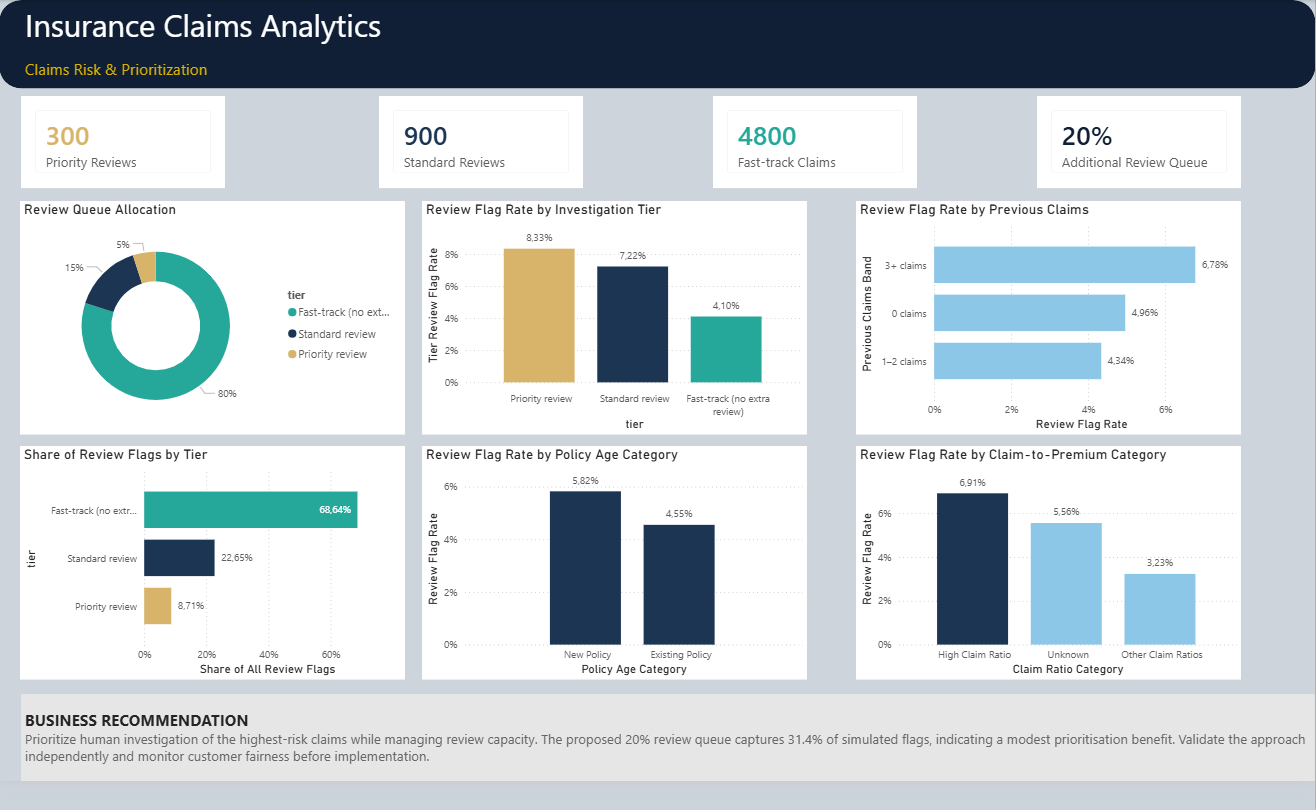

What the dashboard file says about the page in this screenshot:
{"tool":"powerbi","page":{"name":"Claims Risk & Prioritization.","canvas":[1600,950],"ordinal":1},"visuals":[{"type":"group","id":"g1","title":"Group 1","box":[26.7,843.8,1573.3,105.8],"z":0},{"type":"shape","box":[26.7,843.8,1573.3,105.8],"z":0,"group":"g1"},{"type":"group","id":"g2","title":"Group 2","box":[0,0,1600.5,107.6],"z":1000},{"type":"shape","box":[0,0,1600.5,107.6],"z":1000,"group":"g2"},{"type":"textbox","box":[26.9,0,531.2,62],"z":2000,"group":"g2"},{"type":"cardVisual","fields":{"Data":["review_tiers.Priority Reviews"]},"box":[26.7,116.7,248,111.9],"z":2000},{"type":"textbox","box":[26.9,65.5,234,42.1],"z":3000,"group":"g2"},{"type":"cardVisual","fields":{"Data":["review_tiers.Standard Reviews"]},"box":[462,116.7,248,111.9],"z":3000},{"type":"cardVisual","fields":{"Data":["review_tiers.Fast-track Claims"]},"box":[868.1,116.7,248,111.9],"z":4000},{"type":"cardVisual","fields":{"Data":["review_tiers.Additional Review Queue"]},"box":[1262,116.7,248,111.9],"z":5000},{"type":"donutChart","title":"Review Queue Allocation","fields":{"Category":["review_tiers.tier"],"Y":["Sum(review_tiers.claims)"]},"box":[25.5,244.4,468.1,284.5],"z":6000},{"type":"clusteredColumnChart","title":"Review Flag Rate by Investigation Tier","fields":{"Category":["review_tiers.tier"],"Y":["review_tiers.Tier Review Flag Rate"]},"box":[514.3,244.4,468.1,284.5],"z":7000},{"type":"clusteredBarChart","title":"Review Flag Rate by Previous Claims","fields":{"Category":["insurance_claims_clean.Previous Claims Band"],"Y":["cross_validation.Review Flag Rate"]},"box":[1041.9,244.4,468.1,284.5],"z":8000},{"type":"clusteredBarChart","title":"Share of Review Flags by Tier","fields":{"Category":["review_tiers.tier"],"Y":["review_tiers.Share of All Review Flags"]},"box":[25.5,542.2,468.1,284.5],"z":9000},{"type":"clusteredColumnChart","fields":{"Category":["insurance_claims_clean.Policy Age Category"],"Y":["cross_validation.Review Flag Rate"]},"box":[514.3,542.2,468.1,284.5],"z":10000},{"type":"clusteredColumnChart","title":"Review Flag Rate by Claim-to-Premium Category","fields":{"Category":["insurance_claims_clean.Claim Ratio Category"],"Y":["cross_validation.Review Flag Rate"]},"box":[1041.9,542.2,468.1,284.5],"z":11000},{"type":"textbox","box":[26.7,857.2,1573.3,79],"z":19000,"group":"g1"}]}

Visuals, with their boxes on the page's 1600x950 design canvas (x1, y1, x2, y2). These are canvas units, not pixel positions in the 1316x810 screenshot, which may show the page scaled, cropped or inside an application window:
"Group 1" group: x1=27, y1=844, x2=1600, y2=950
shape: x1=27, y1=844, x2=1600, y2=950
"Group 2" group: x1=0, y1=0, x2=1600, y2=108
shape: x1=0, y1=0, x2=1600, y2=108
textbox: x1=27, y1=0, x2=558, y2=62
cardVisual - review_tiers.Priority Reviews: x1=27, y1=117, x2=275, y2=229
textbox: x1=27, y1=66, x2=261, y2=108
cardVisual - review_tiers.Standard Reviews: x1=462, y1=117, x2=710, y2=229
cardVisual - review_tiers.Fast-track Claims: x1=868, y1=117, x2=1116, y2=229
cardVisual - review_tiers.Additional Review Queue: x1=1262, y1=117, x2=1510, y2=229
"Review Queue Allocation" donutChart: x1=26, y1=244, x2=494, y2=529
"Review Flag Rate by Investigation Tier" clusteredColumnChart: x1=514, y1=244, x2=982, y2=529
"Review Flag Rate by Previous Claims" clusteredBarChart: x1=1042, y1=244, x2=1510, y2=529
"Share of Review Flags by Tier" clusteredBarChart: x1=26, y1=542, x2=494, y2=827
clusteredColumnChart - insurance_claims_clean.Policy Age Category x cross_validation.Review Flag Rate: x1=514, y1=542, x2=982, y2=827
"Review Flag Rate by Claim-to-Premium Category" clusteredColumnChart: x1=1042, y1=542, x2=1510, y2=827
textbox: x1=27, y1=857, x2=1600, y2=936
